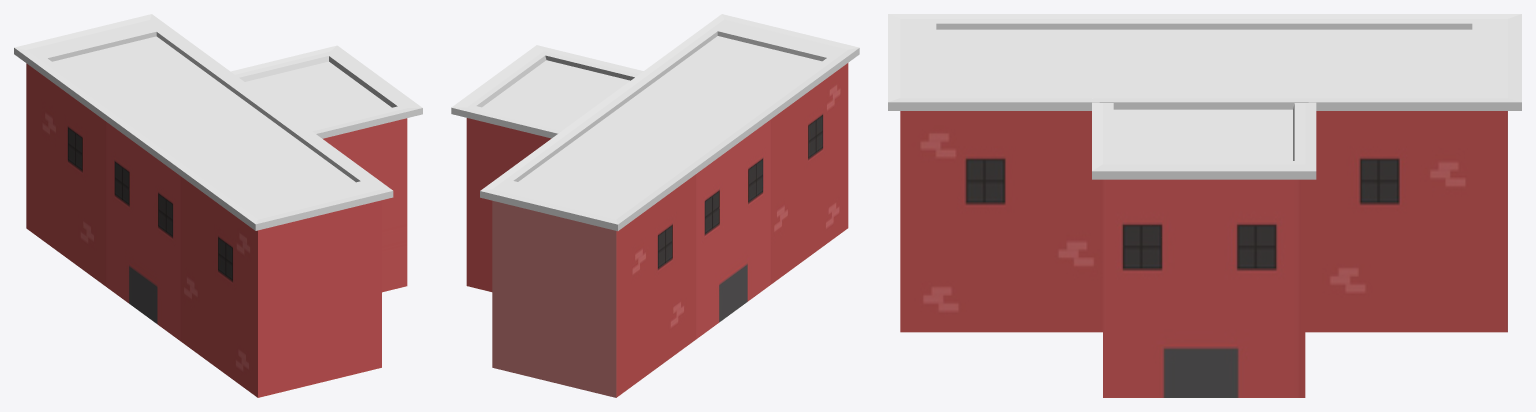
File: cube.007_material.006_0_lev1.glb
3 renders of one model, left to right at view 1: azimuth 30°, elevation 25°; view 2: azimuth 150°, elevation 25°; view 3: azimuth 270°, elevation 25°, orthographic. The views are drawn at different scales.
Parts seen in each view (by area): view 1: cube.007_material.006_0_lev1; view 2: cube.007_material.006_0_lev1; view 3: cube.007_material.006_0_lev1.
Part boxes in pixels (left/top/right/bottom): cube.007_material.006_0_lev1: left=14, top=14, right=422, bottom=397; cube.007_material.006_0_lev1: left=451, top=14, right=859, bottom=397; cube.007_material.006_0_lev1: left=888, top=14, right=1521, bottom=397.
Bounding box in the file's own units: 0.7064 × 0.4924 × 1.21.
Materials: 1 (1 with a texture image).
